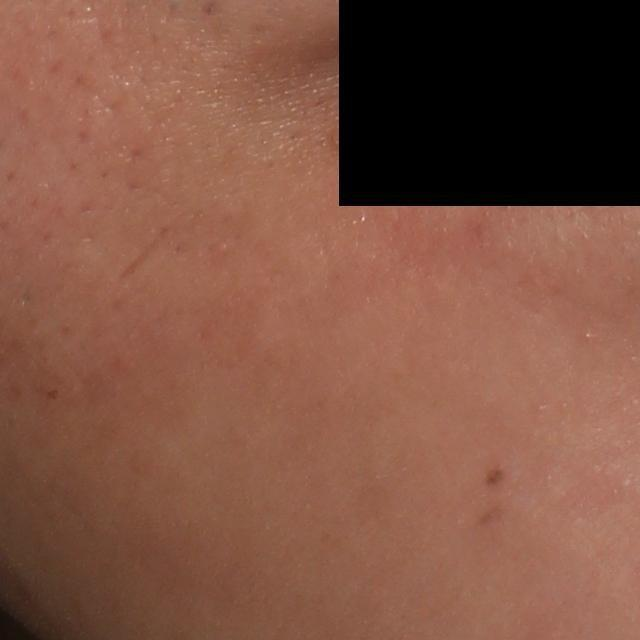nevus: (483, 462, 504, 487)
